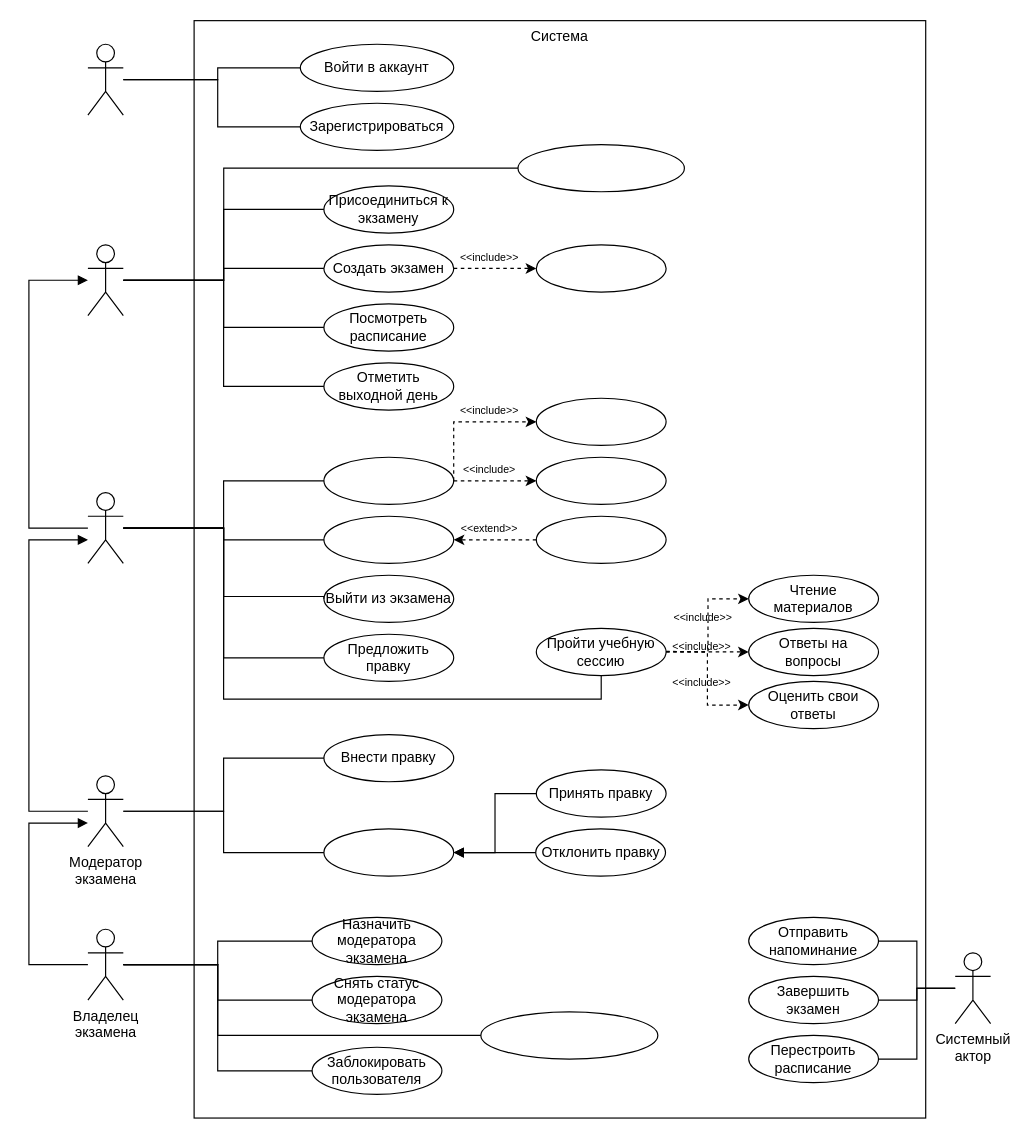
Image size: 1031x1139. Some labels were removed from this diagram. Each missing label, with the centre of its shape:
"Авторизованный пользователь" belongs at point 105,280.
"Внести вопрос" belongs at point 600,421.
"Внести ответ" belongs at point 600,480.
"Заполнить билет" belongs at point 388,480.
"Заполнить данные" belongs at point 600,268.
"Написать локальную заметку" belongs at point 388,539.
"Неавторизованный пользователь" belongs at point 105,79.
"Обработать правку" belongs at point 388,852.
"Перевести экзамен на стадию Studying" belongs at point 569,1035.
"Предложить свою заметку как правку" belongs at point 600,539.
"Установить приоритет экзаменов" belongs at point 600,167.
"Участник экзамена" belongs at point 105,527.
